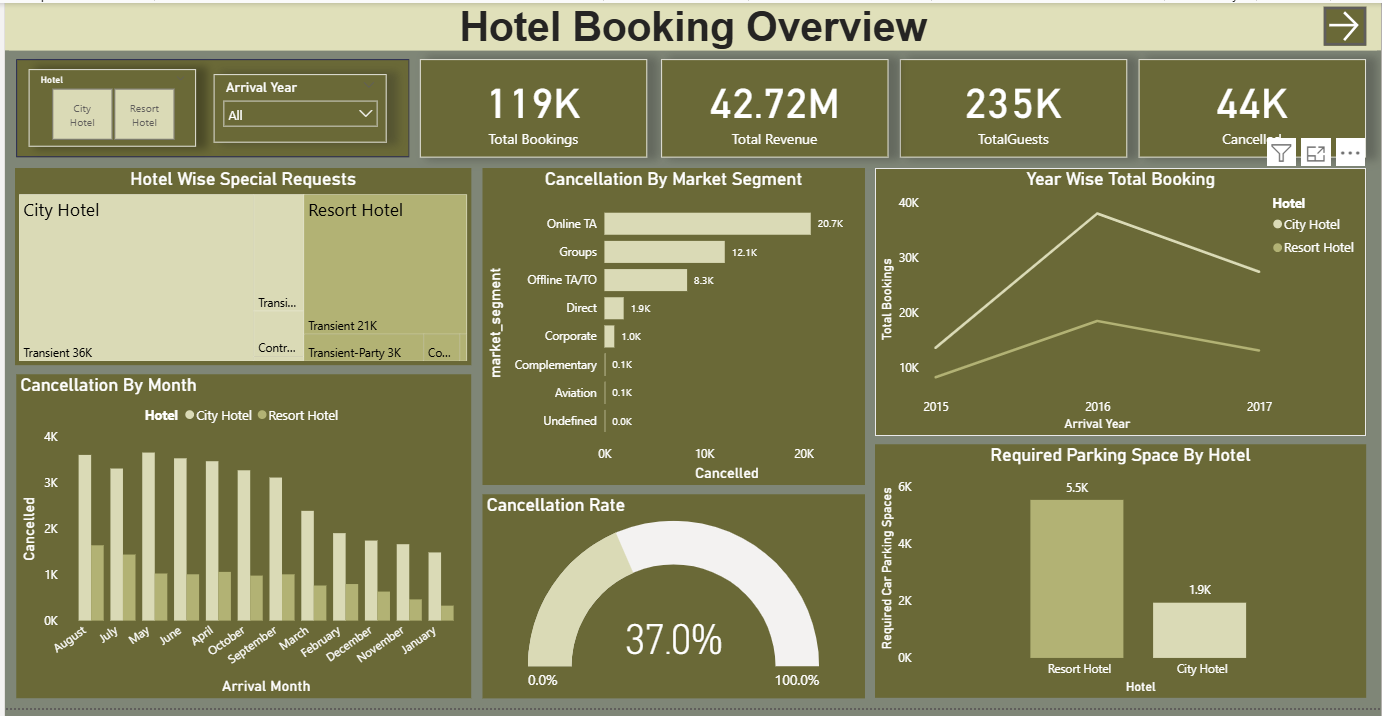

What the dashboard file says about the page in this screenshot:
{"tool":"powerbi","page":{"name":"Page 1","canvas":[1580,810],"ordinal":0},"visuals":[{"type":"shape","box":[12.5,64.1,451.6,112.5],"z":0},{"type":"card","fields":{"Values":["All measures.TotalGuests"]},"box":[1028.1,64.1,260.9,112.5],"z":1000},{"type":"card","fields":{"Values":["All measures.Total Bookings"]},"box":[476.6,64.1,260.9,112.5],"z":2000},{"type":"card","fields":{"Values":["All measures.Cancelled"]},"box":[1301.9,64.7,260.9,112.5],"z":3000},{"type":"card","fields":{"Values":["All measures.Total Revenue"]},"box":[753.1,64.1,260.9,112.5],"z":4000},{"type":"clusteredColumnChart","title":"Cancellation By Month","fields":{"Category":["hotel_booking.arrival_date_month"],"Series":["hotel_booking.hotel"],"Y":["All measures.Cancelled"]},"box":[12.9,426.3,522.5,371.7],"z":5000},{"type":"barChart","title":"Cancellation By Market Segment","fields":{"Category":["hotel_booking.market_segment"],"Y":["All measures.Cancelled"]},"box":[548.4,189.1,439.1,364.1],"z":6000},{"type":"lineChart","title":"Year Wise Total Booking","fields":{"Category":["hotel_booking.arrival_date_year"],"Y":["All measures.Total Bookings"],"Series":["hotel_booking.hotel"]},"box":[999,189.5,564.1,307.2],"z":7000},{"type":"textbox","title":"Hotel Booking Overview","box":[0,0,1580.3,54.5],"z":8000},{"type":"slicer","fields":{"Values":["hotel_booking.arrival_date_year"]},"box":[239.1,81.2,198.4,78.1],"z":9000},{"type":"slicer","fields":{"Values":["hotel_booking.hotel"]},"box":[27.3,76.1,192.3,89],"z":10000},{"type":"gauge","fields":{"Y":["All measures.Cancellation Rate"]},"box":[548.4,564.1,439.1,234.4],"z":11000},{"type":"treemap","title":"Hotel Wise Special Requests","fields":{"Group":["hotel_booking.hotel"],"Values":["Sum(hotel_booking.total_of_special_requests)"],"Details":["hotel_booking.customer_type"]},"box":[11.5,189.5,523.9,226.8],"z":12000},{"type":"columnChart","title":"Required Parking Space By Hotel","fields":{"Y":["Sum(hotel_booking.required_car_parking_spaces)"],"Category":["hotel_booking.hotel"]},"box":[999,506.7,564.1,291.4],"z":13000},{"type":"actionButton","box":[1514.3,4.3,48.8,44.5],"z":14000}]}

Visuals, with their boxes in screenshot pixels (x1, y1, x2, y2), scaled from the page's 1580x810 canvas onto the 1382x716 screenshot:
shape: <region>11, 57, 406, 156</region>
card - All measures.TotalGuests: <region>899, 57, 1127, 156</region>
card - All measures.Total Bookings: <region>417, 57, 645, 156</region>
card - All measures.Cancelled: <region>1139, 57, 1367, 157</region>
card - All measures.Total Revenue: <region>659, 57, 887, 156</region>
"Cancellation By Month" clusteredColumnChart: <region>11, 377, 468, 705</region>
"Cancellation By Market Segment" barChart: <region>480, 167, 864, 489</region>
"Year Wise Total Booking" lineChart: <region>874, 168, 1367, 439</region>
"Hotel Booking Overview" textbox: <region>0, 0, 1381, 48</region>
slicer - hotel_booking.arrival_date_year: <region>209, 72, 383, 141</region>
slicer - hotel_booking.hotel: <region>24, 67, 192, 146</region>
gauge - All measures.Cancellation Rate: <region>480, 499, 864, 706</region>
"Hotel Wise Special Requests" treemap: <region>10, 168, 468, 368</region>
"Required Parking Space By Hotel" columnChart: <region>874, 448, 1367, 705</region>
actionButton: <region>1325, 4, 1367, 43</region>
